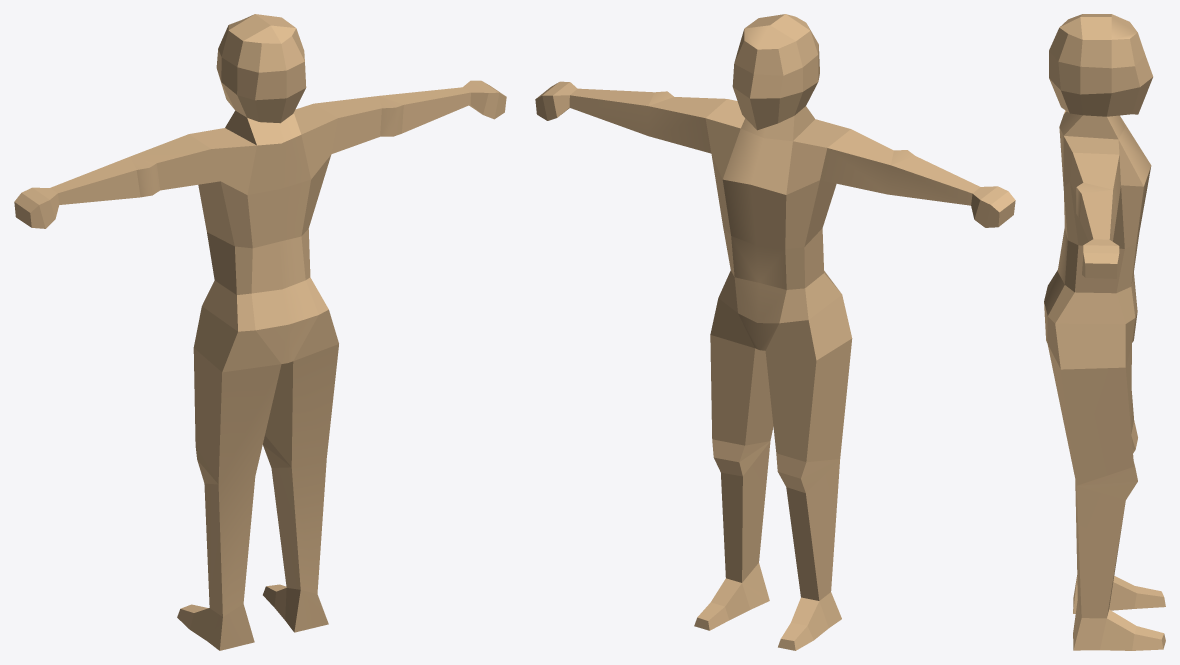
Rendered from SoldierStood.fbx.
The picture shows the model from 3 angles, left to right: view 1: azimuth 30°, elevation 25°; view 2: azimuth 150°, elevation 25°; view 3: azimuth 270°, elevation 25°; orthographic projection. The views are drawn at different scales.
Parts seen in each view (by area): view 1: Man; view 2: Man; view 3: Man.
Part boxes in pixels (x1,y1,x2,y2): Man: [14, 14, 506, 650]; Man: [535, 14, 1015, 650]; Man: [1044, 14, 1165, 650].
Bounding box in the file's own units: 355 × 434 × 78.96.
